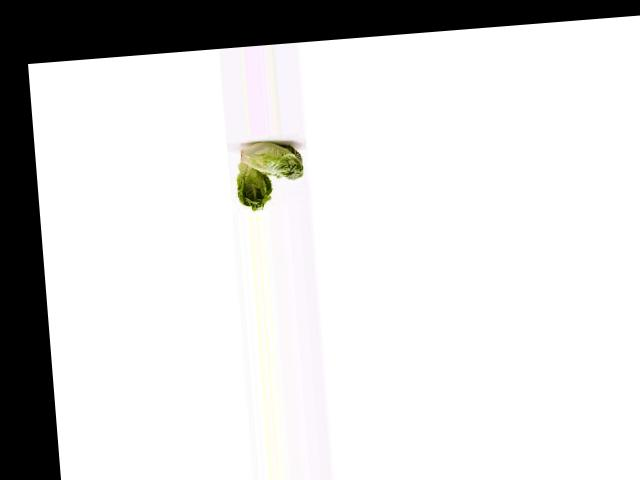lettuce: (235, 136, 308, 187)
